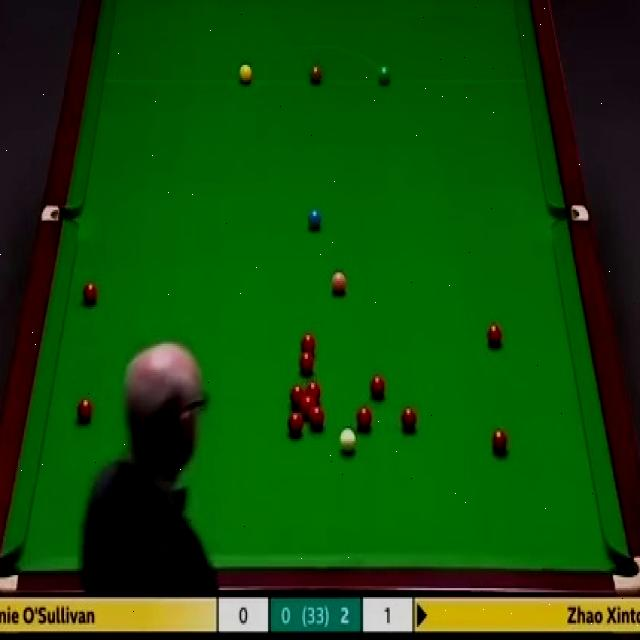blue-ball: (308, 205, 322, 233)
brown-ball: (308, 63, 322, 83)
green-ball: (378, 63, 392, 83)
pink-ball: (330, 270, 347, 296)
red-ball: (76, 396, 94, 425), (82, 280, 98, 309), (492, 426, 508, 454), (304, 380, 322, 404), (401, 406, 417, 432), (287, 411, 303, 437), (290, 382, 306, 408), (299, 351, 315, 376), (309, 404, 324, 430), (369, 374, 386, 396), (487, 322, 501, 347), (356, 406, 370, 430), (300, 334, 317, 353), (302, 396, 316, 418)
white-ball: (340, 428, 354, 454)
yellow-ball: (238, 63, 253, 83)
